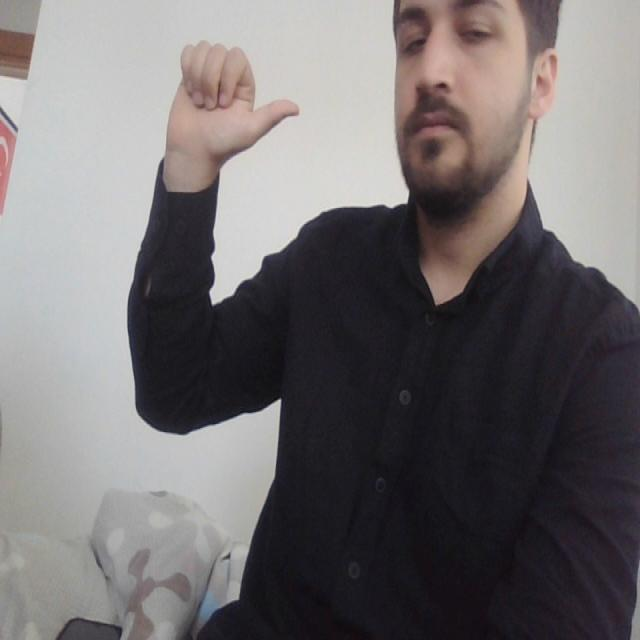icmek: (153, 42, 441, 175)
